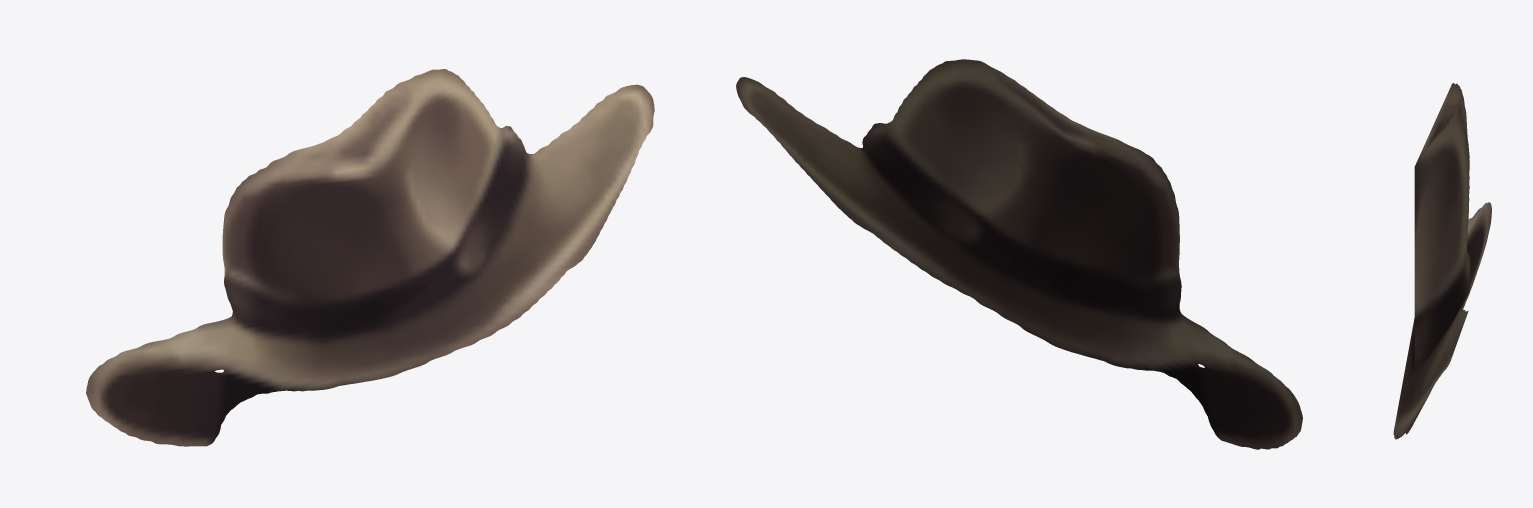
File: Adventure Hat.FBX
The picture shows the model from 3 angles, left to right: view 1: azimuth 30°, elevation 25°; view 2: azimuth 150°, elevation 25°; view 3: azimuth 270°, elevation 25°; orthographic projection. The views are drawn at different scales.
Parts seen in each view (by area): view 1: Cat Prop Adventure Hat; view 2: Cat Prop Adventure Hat; view 3: Cat Prop Adventure Hat.
Part boxes in pixels (box(x1,y1,x2,y2)): Cat Prop Adventure Hat: box(86, 69, 654, 446); Cat Prop Adventure Hat: box(736, 59, 1302, 449); Cat Prop Adventure Hat: box(1393, 83, 1491, 439).
Bounding box in the file's own units: 105 × 16.41 × 62.36.
